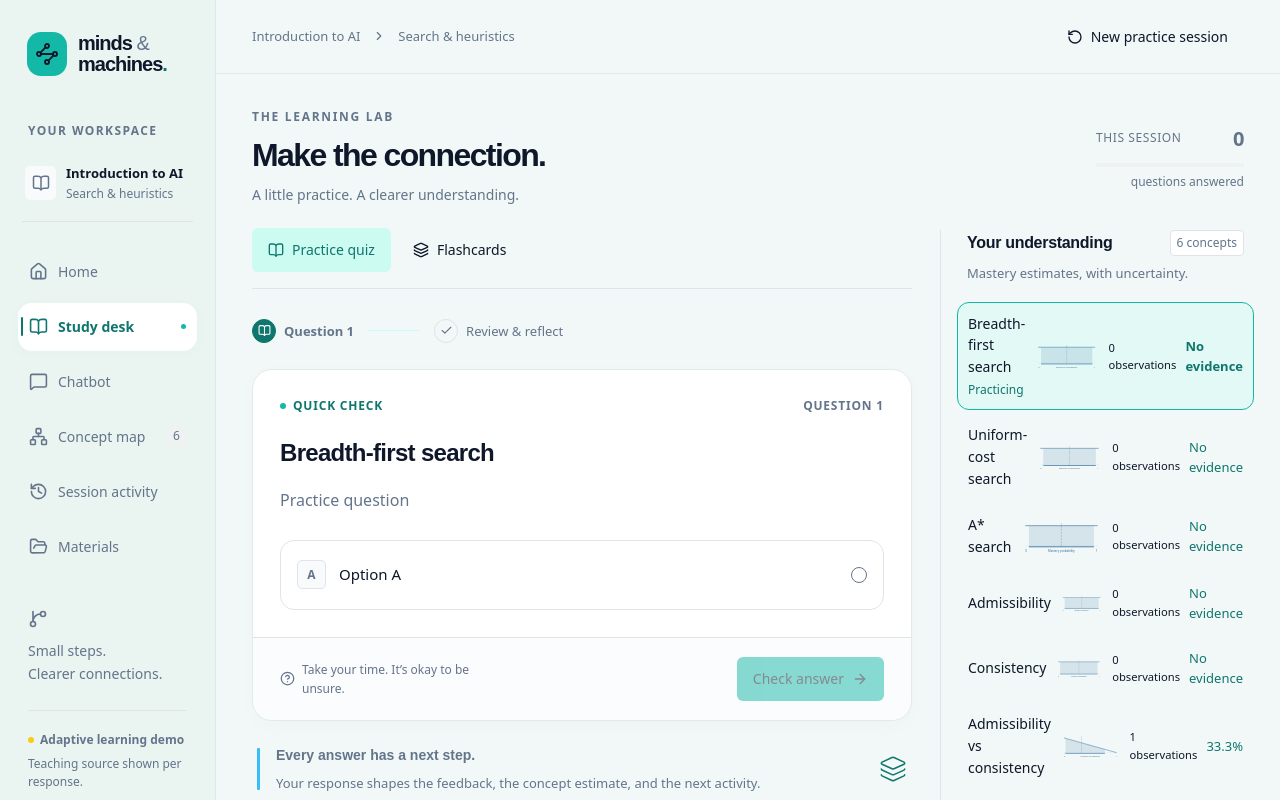
Test: keeps a failed draft for retry and never renders an untrusted mismatched response
expect the radio button is shown: met, box x1=280 y1=540 x2=884 y2=610
Click the tab "Chatbot": (108,382) x1=18 y1=358 x2=197 y2=406
(page scrolled)
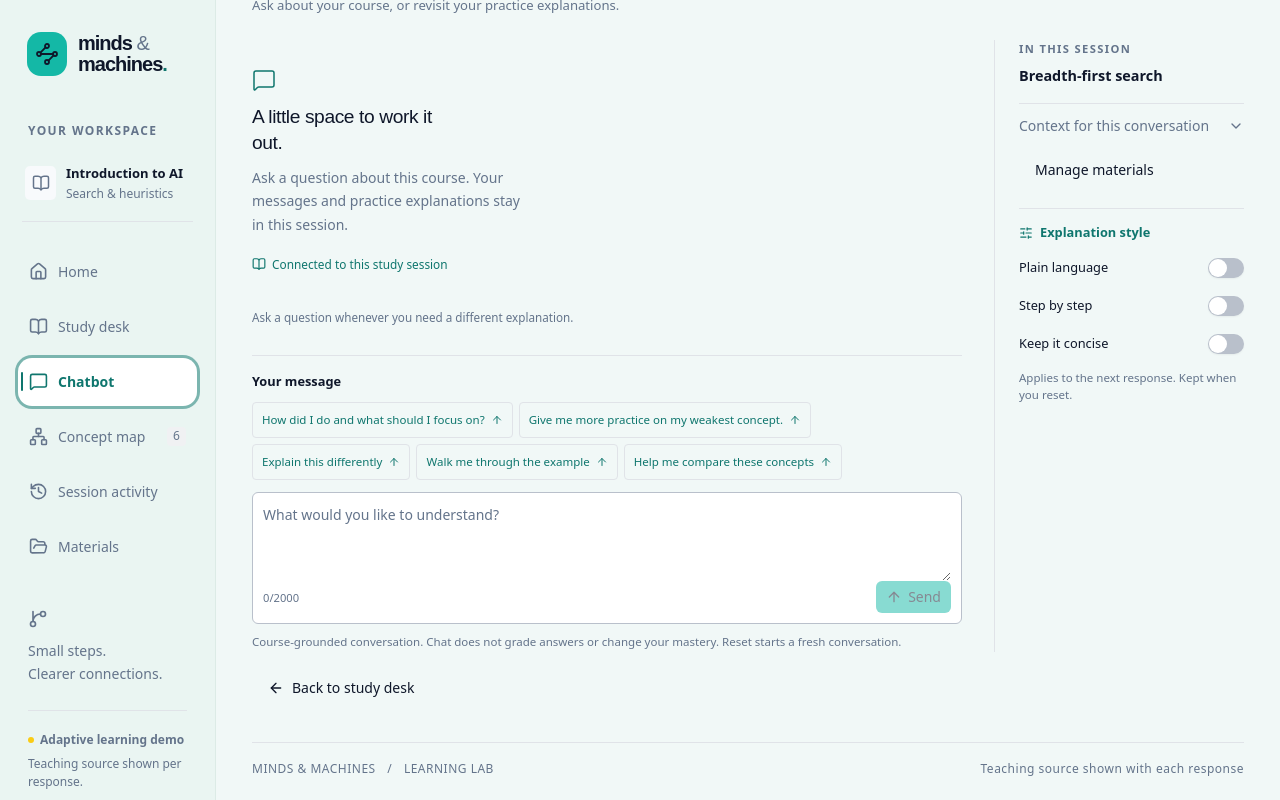
In the text box labelled "Your message": (607,542) x1=263 y1=503 x2=951 y2=581, type "Explain the concept"
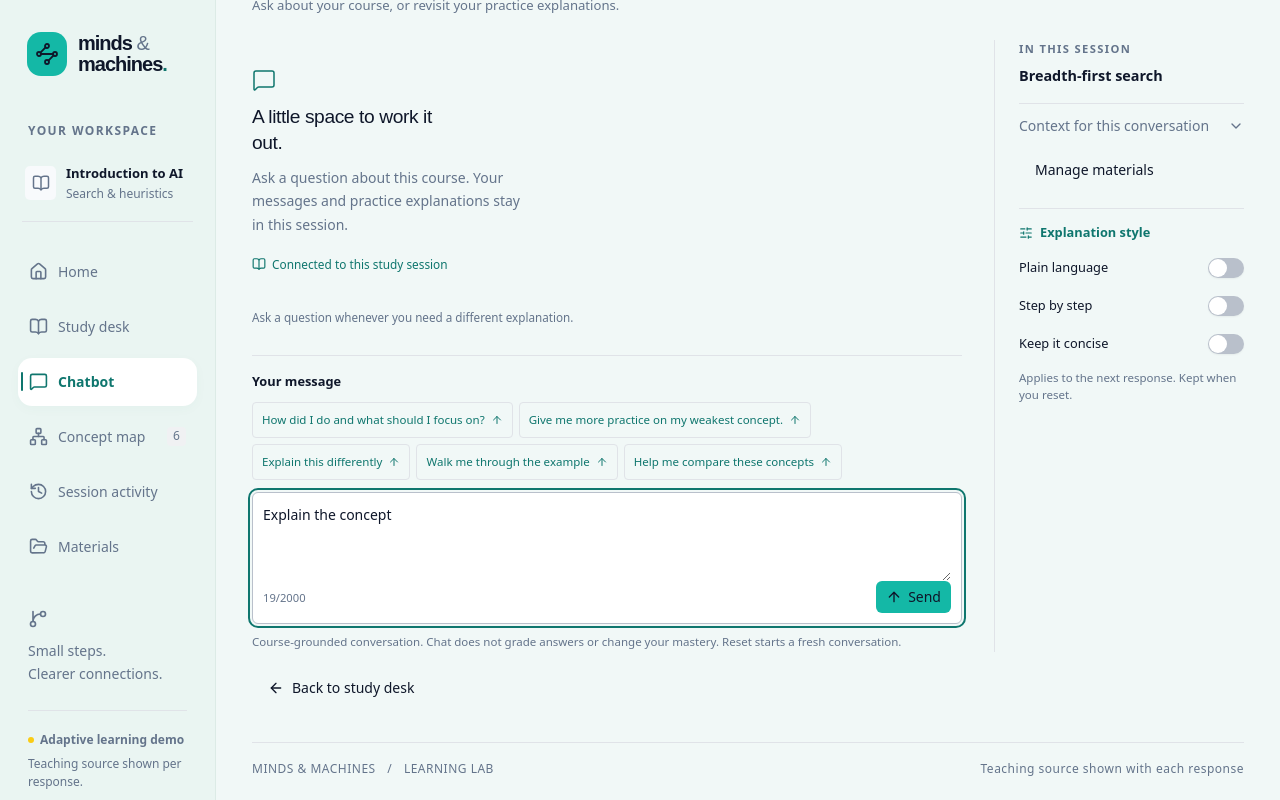
Click the button "Send": (914,597) x1=876 y1=581 x2=951 y2=613
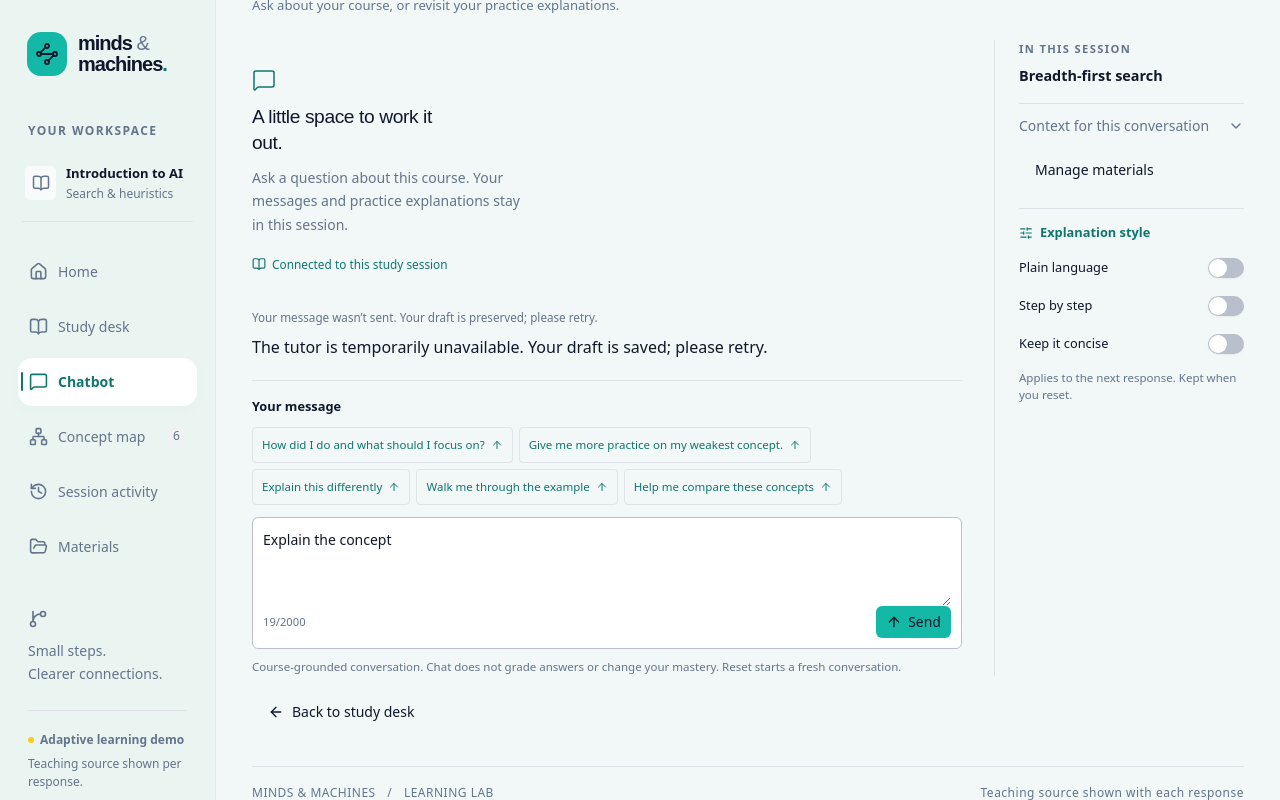
expect the message "The tutor is temporarily unavailable. Your draft is saved; please retry." is shown: met, box x1=252 y1=336 x2=768 y2=358
Click the button "Send": (914,622) x1=876 y1=606 x2=951 y2=638
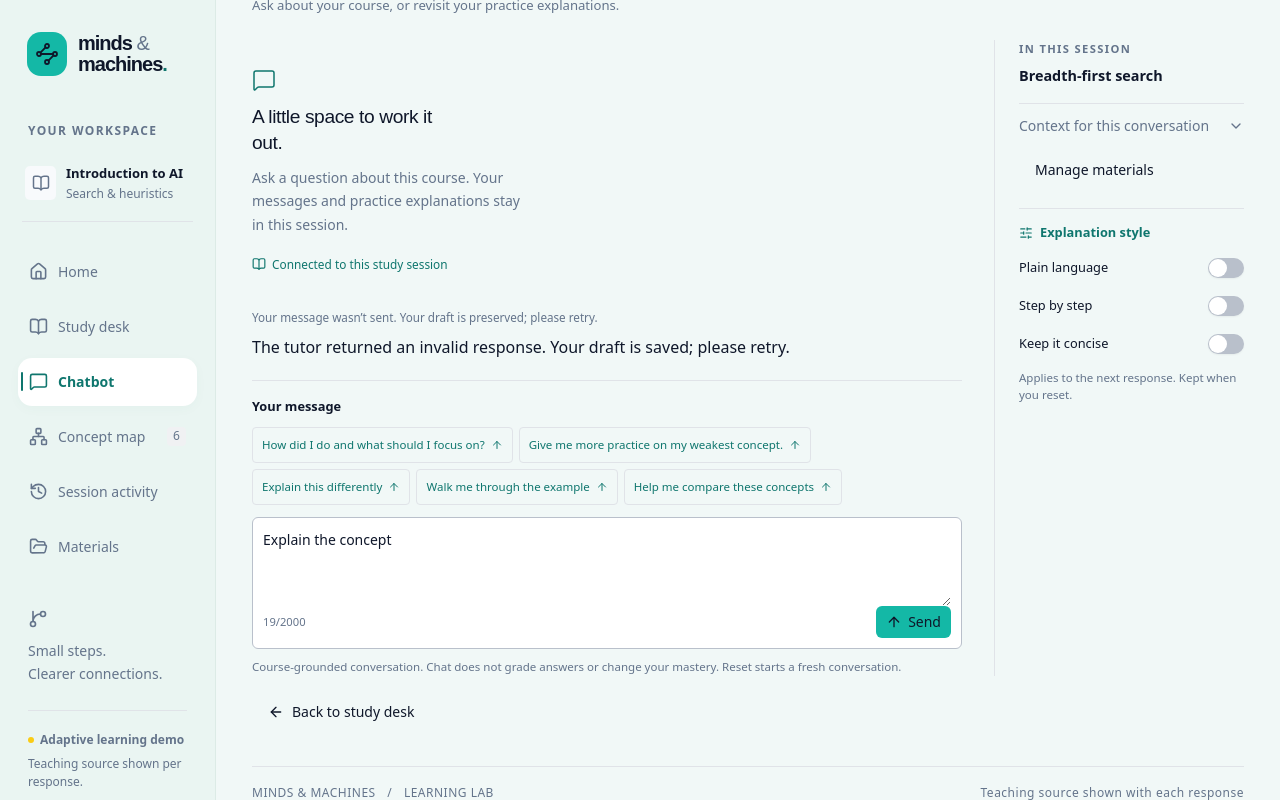
expect the text "A grounded explanation." is not shown: met
Click the button "Send": (914,622) x1=876 y1=606 x2=951 y2=638
(page scrolled)
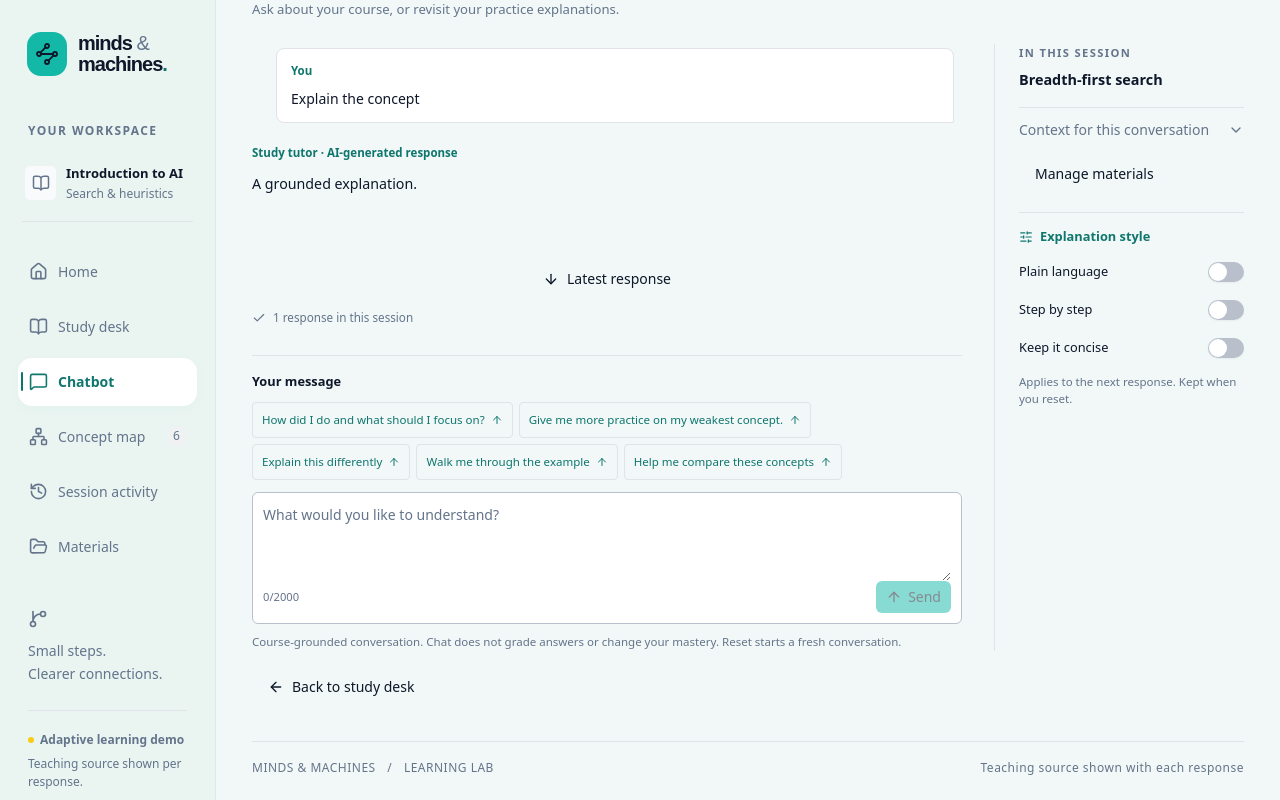
expect the text "A grounded explanation." is shown: met, box x1=252 y1=174 x2=417 y2=192
